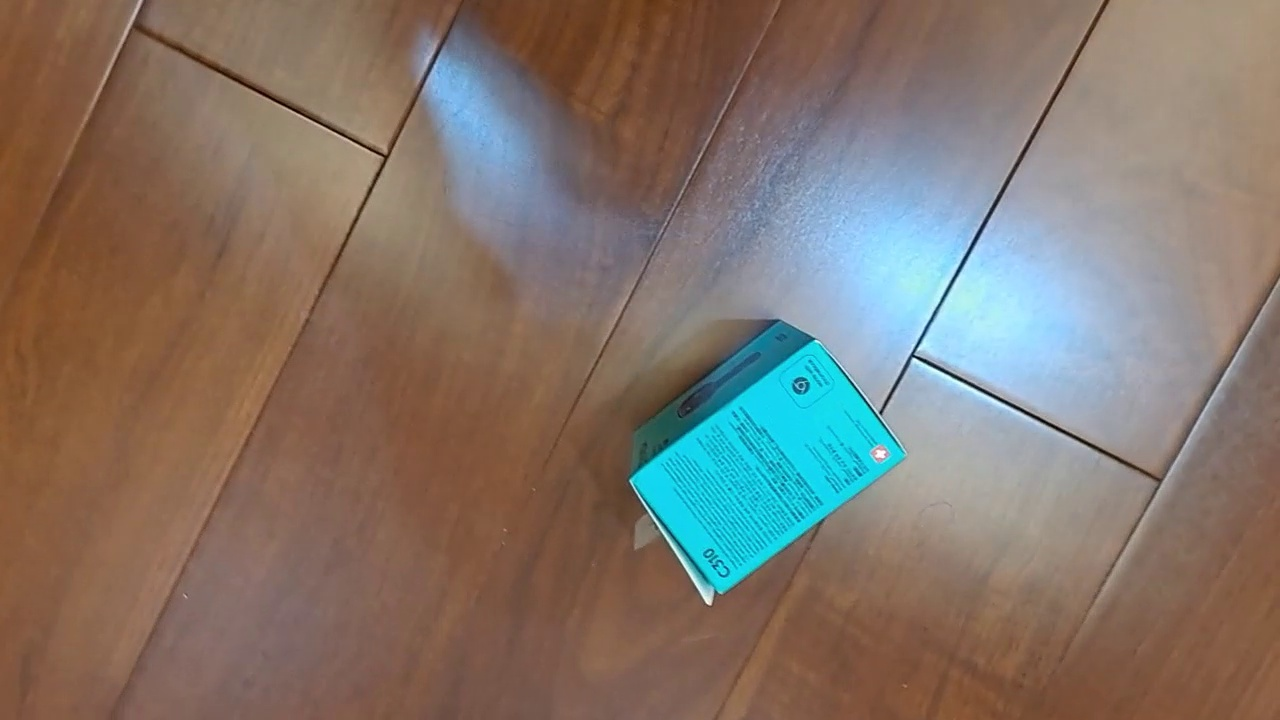webcam: (627, 318, 908, 608)
